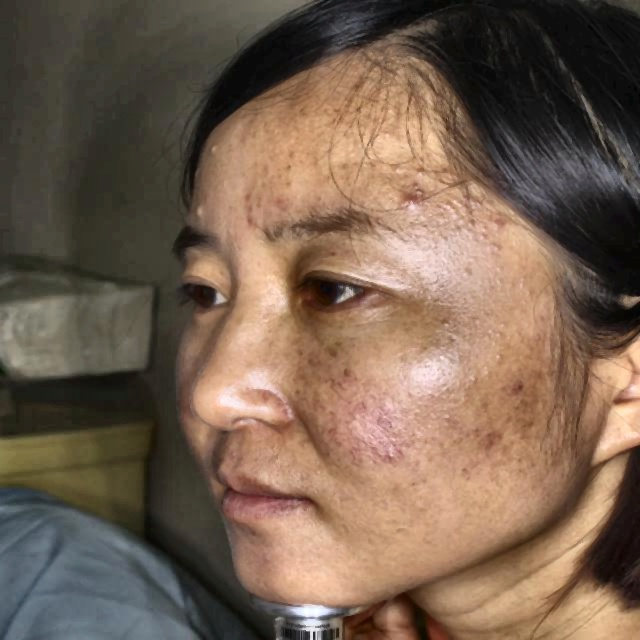comedone: (485, 209, 514, 240), (399, 185, 425, 217), (189, 197, 214, 227), (203, 139, 225, 161)
